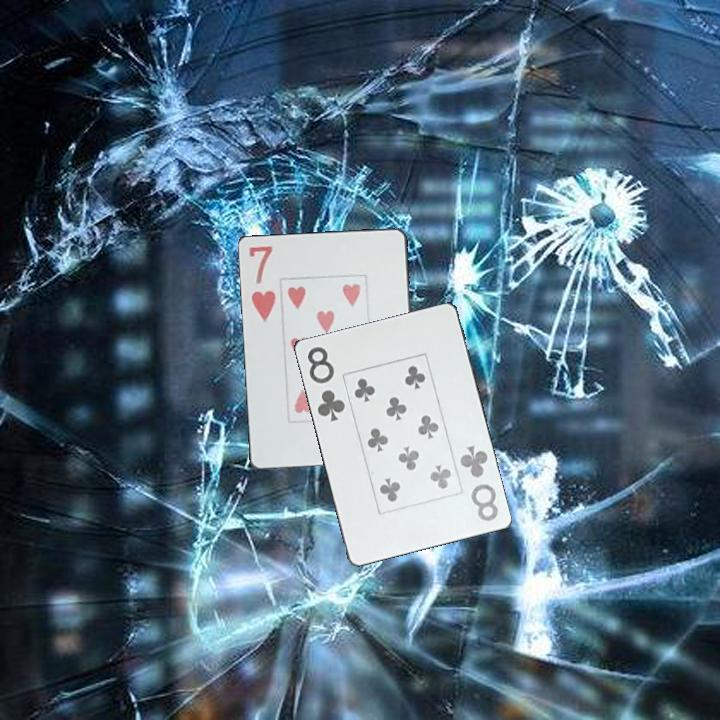7h: (246, 241, 279, 325)
8c: (303, 343, 348, 425), (456, 442, 501, 524)
